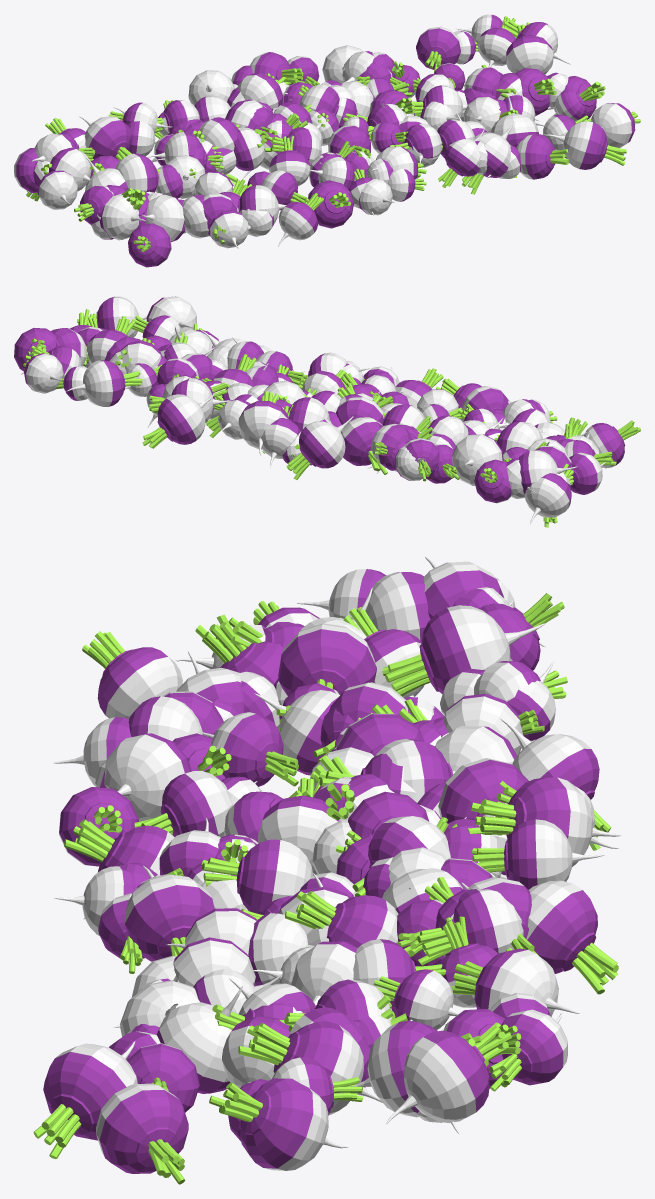
The model's file is turnip.fbx.
The picture shows the model from 3 angles, top to bottom: view 1: azimuth 30°, elevation 25°; view 2: azimuth 150°, elevation 25°; view 3: azimuth 270°, elevation 25°; orthographic projection. The views are drawn at different scales.
Parts seen in each view (by area): view 1: turnip.096; view 2: turnip.096; view 3: turnip.096.
Boxes of the visible parts, left/top/right/bottom form: turnip.096: left=14, top=14, right=640, bottom=267; turnip.096: left=14, top=296, right=640, bottom=527; turnip.096: left=33, top=556, right=620, bottom=1184.
Bounding box in the file's own units: 1340 × 219 × 621.
